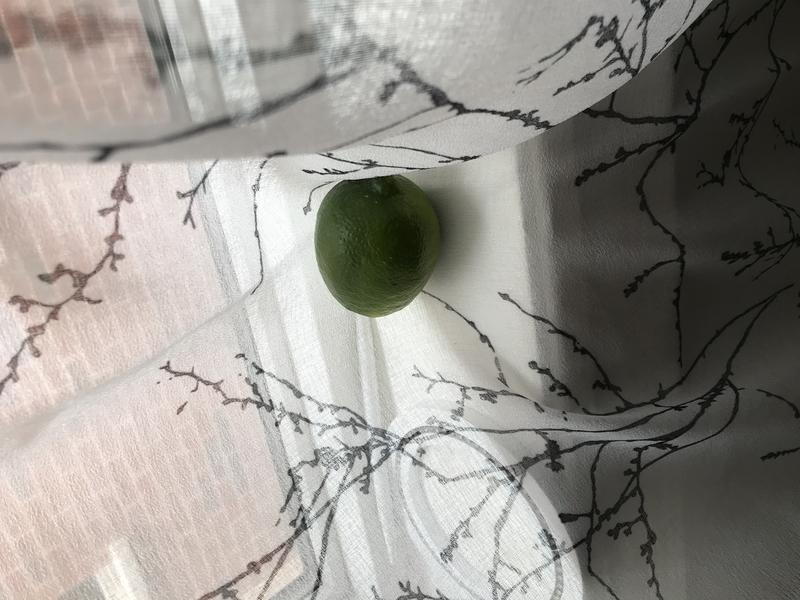lime: (307, 170, 446, 328)
